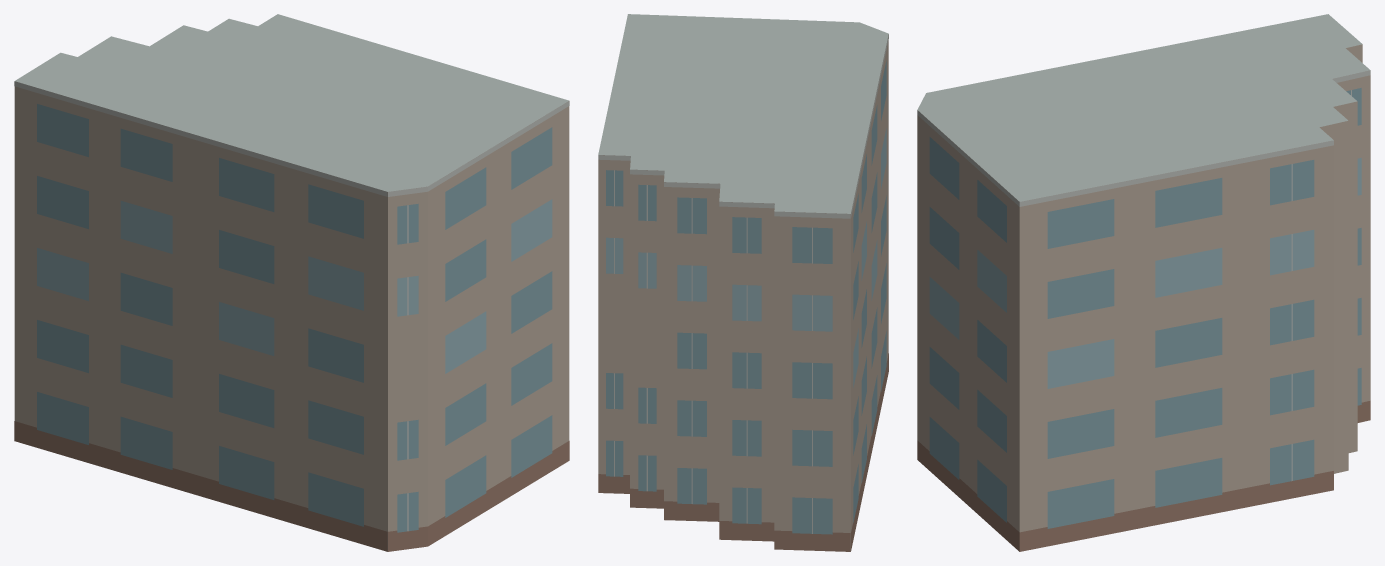
File: survey-upis-32613913.glb
3 renders of one model, left to right at view 1: azimuth 30°, elevation 25°; view 2: azimuth 150°, elevation 25°; view 3: azimuth 270°, elevation 25°, orthographic. The views are drawn at different scales.
Visible parts, largest first — view 1: survey-upis-32613913.tmp; view 2: survey-upis-32613913.tmp; view 3: survey-upis-32613913.tmp.
Boxes of the visible parts, x1,y1,x2,y2 form: survey-upis-32613913.tmp: (14, 14, 569, 551); survey-upis-32613913.tmp: (598, 14, 888, 551); survey-upis-32613913.tmp: (917, 14, 1370, 551).
Size of the model in its own units: 19.59 by 17 by 19.97.
